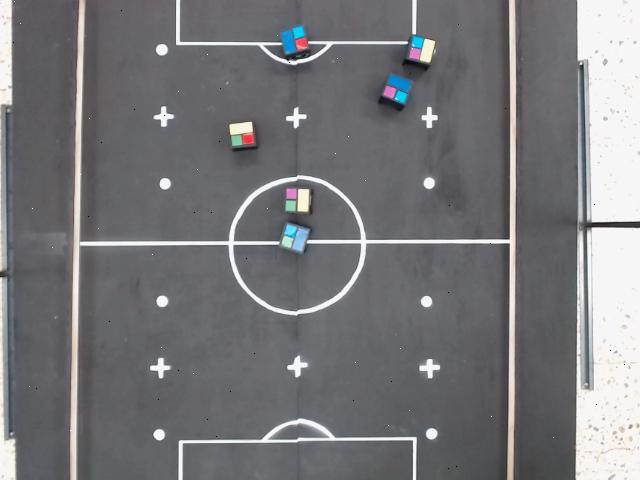robot: (277, 220, 311, 255), (379, 72, 413, 106), (405, 34, 437, 65), (278, 24, 310, 55), (227, 119, 257, 150), (282, 185, 312, 215)
